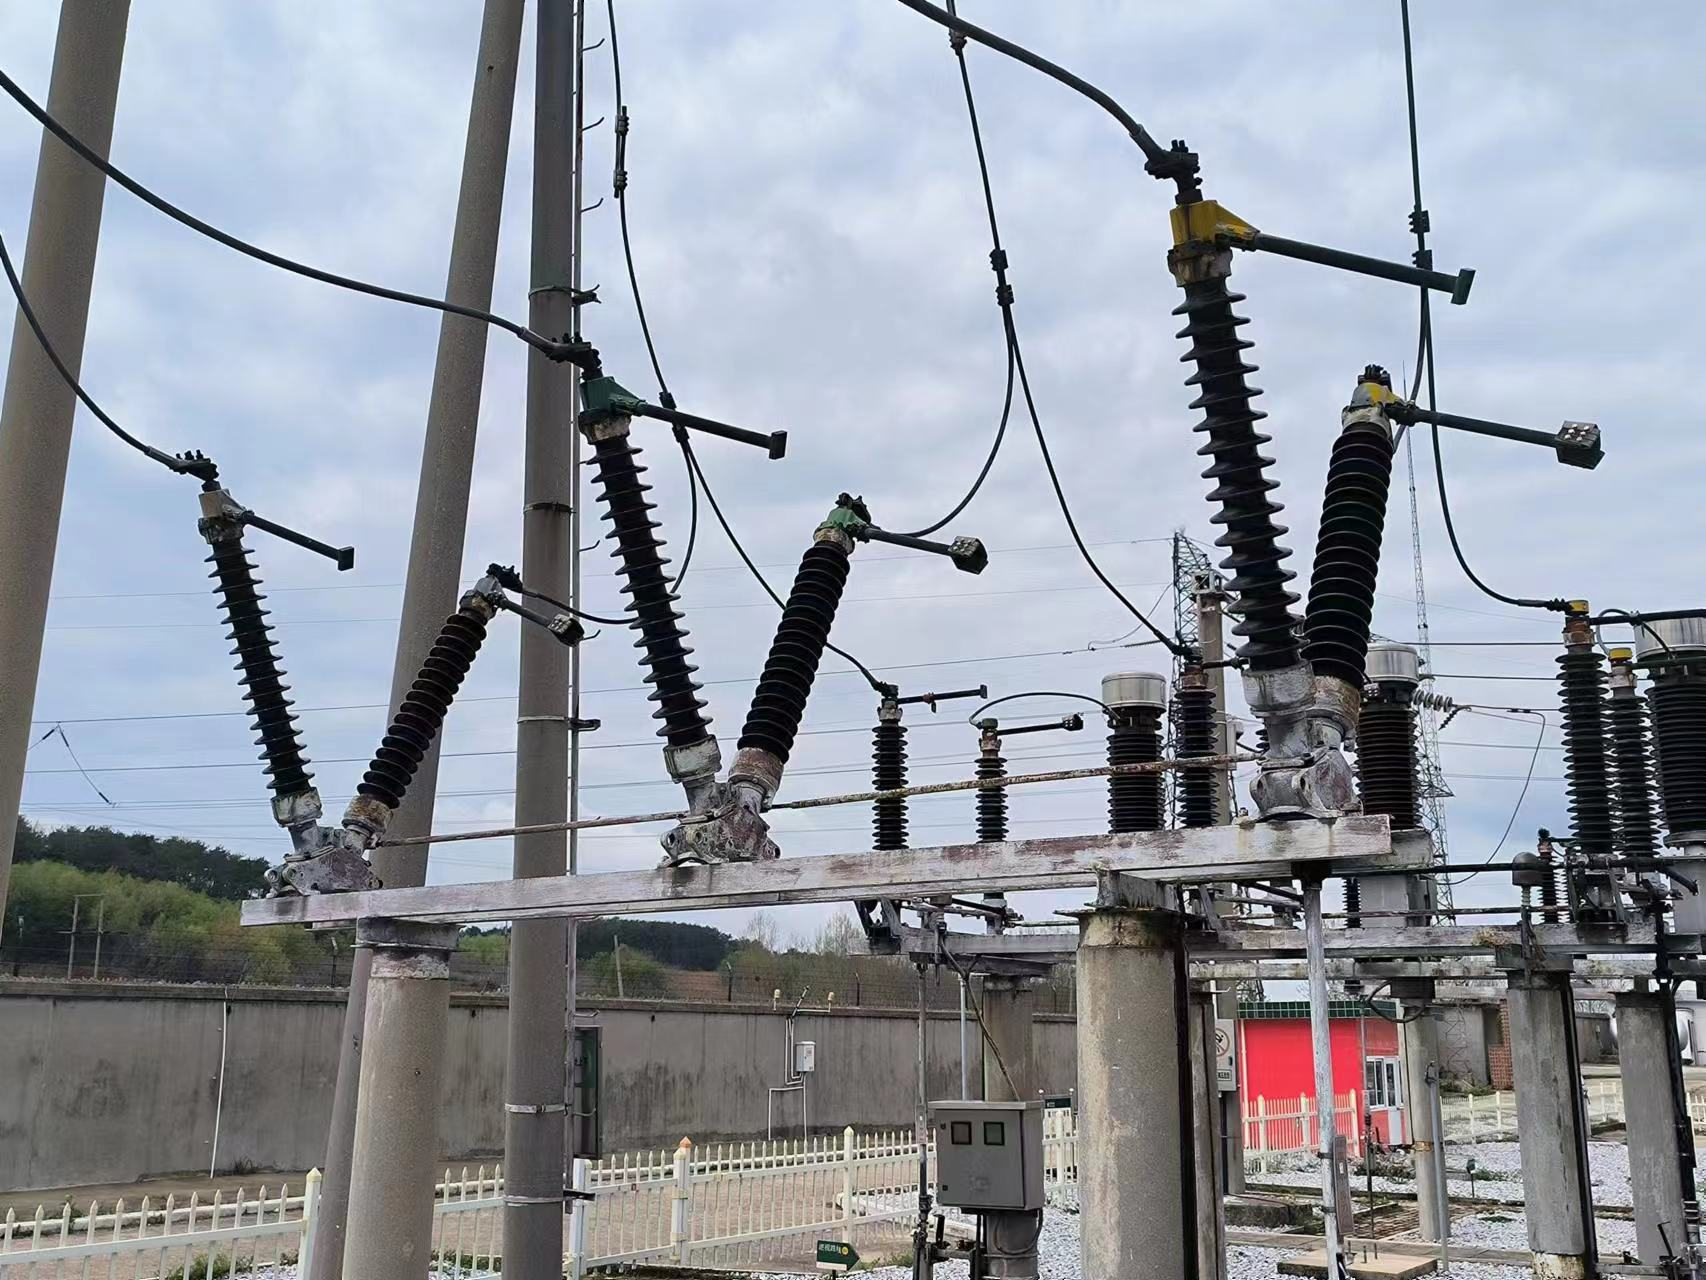Isolating switch: (1137, 130, 1604, 886), (555, 331, 987, 869), (169, 453, 587, 908)
